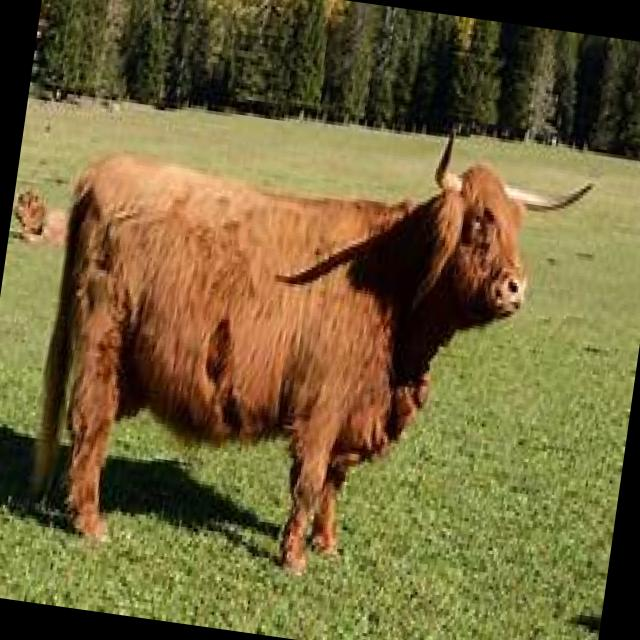cow: (2, 76, 618, 611)
